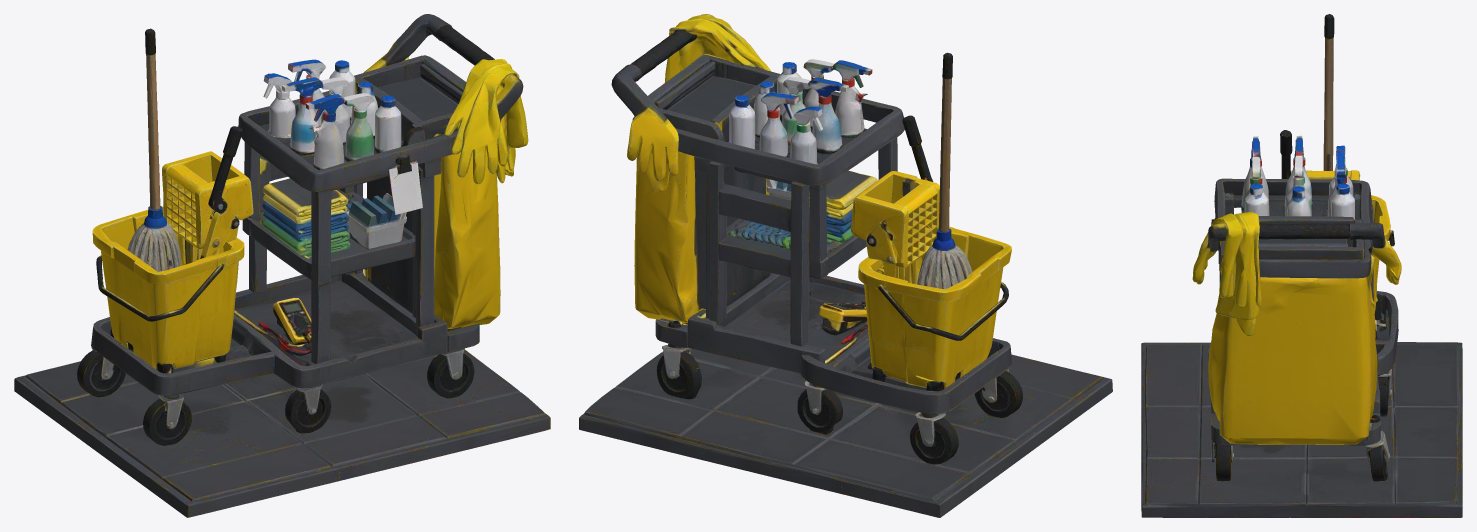
3 views of the same model, side by side, from view 1: azimuth 30°, elevation 25°; view 2: azimuth 150°, elevation 25°; view 3: azimuth 270°, elevation 25° (orthographic). The views are drawn at different scales.
Visible parts, largest first — view 1: escala_real; view 2: escala_real; view 3: escala_real.
Boxes of the visible parts, x1,y1,x2,y2 form: escala_real: (14,14,550,517); escala_real: (579,14,1112,517); escala_real: (1141,14,1462,517).
Bounding box in the file's own units: 1.6 × 1.57 × 1.24.
Materials: 1 (1 with a texture image).
